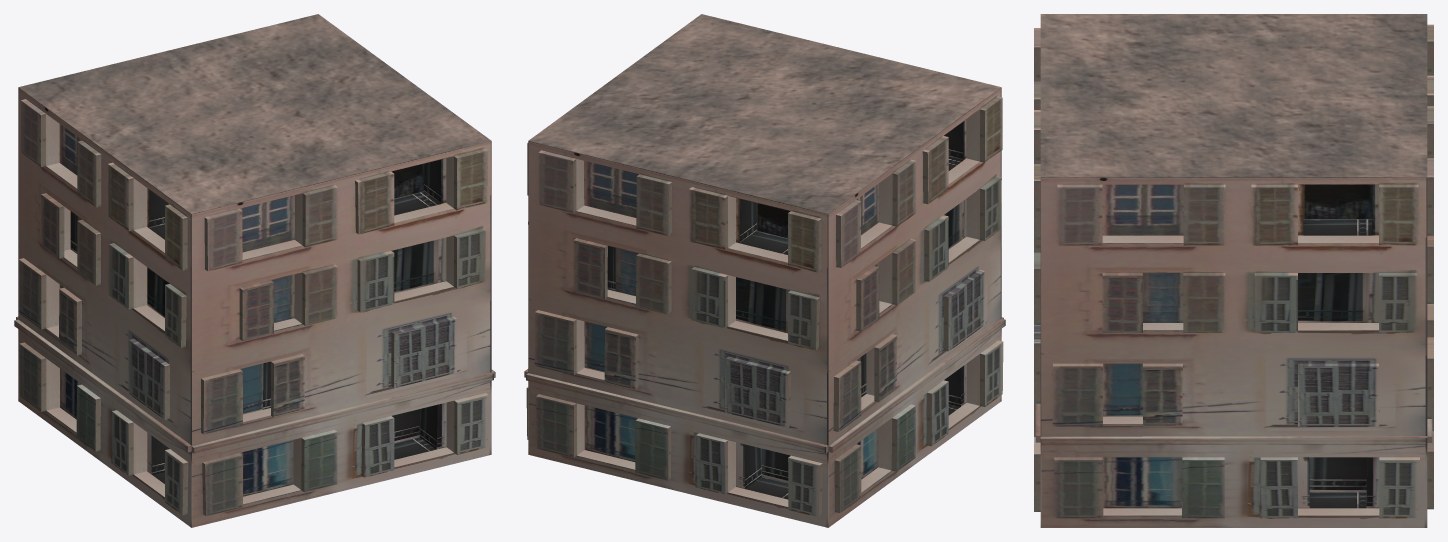
The model's file is building2.glb.
3 views of the same model, side by side, from view 1: azimuth 30°, elevation 25°; view 2: azimuth 150°, elevation 25°; view 3: azimuth 270°, elevation 25° (orthographic). The views are drawn at different scales.
Parts seen in each view (by area): view 1: Cube.001; view 2: Cube.001; view 3: Cube.001.
Part boxes in pixels (x1,y1,x2,y2): Cube.001: [14, 14, 495, 527]; Cube.001: [524, 14, 1005, 527]; Cube.001: [1034, 14, 1433, 527].
Bounding box in the file's own units: 1.03 × 1 × 1.03.
Materials: 1 (1 with a texture image).
